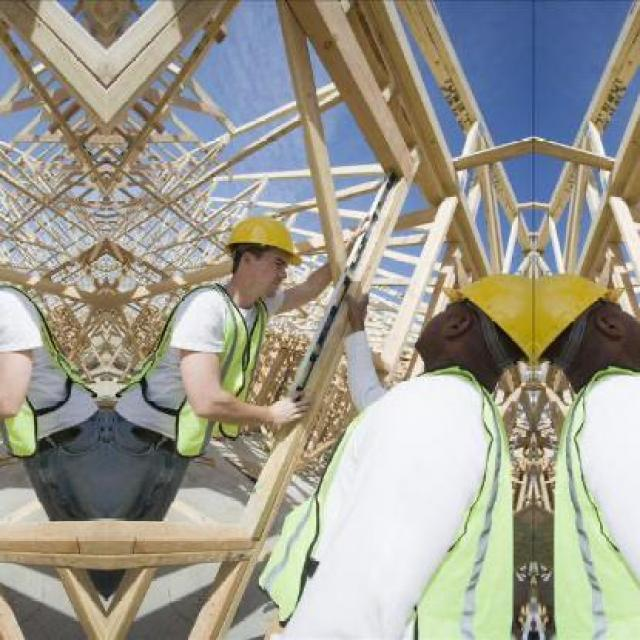reflective_jacket: (245, 370, 530, 632), (110, 279, 285, 458), (540, 363, 639, 639), (0, 258, 98, 461)
safety_helmet: (439, 266, 533, 363), (533, 266, 624, 358), (217, 209, 306, 269)
